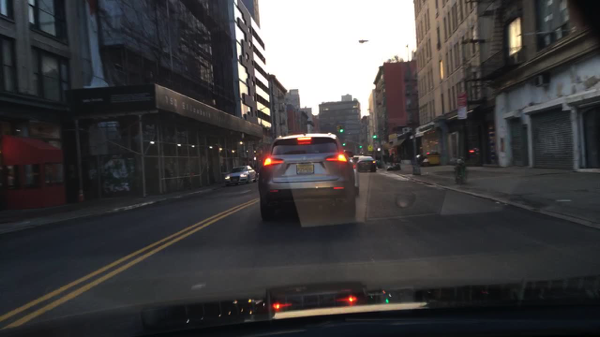car: (258, 132, 355, 223), (223, 166, 257, 187), (348, 157, 359, 194), (356, 155, 376, 172), (351, 155, 359, 164), (344, 150, 353, 157)
motor: (448, 156, 467, 187)
person: (389, 153, 394, 165)
traffic light: (337, 124, 343, 133), (371, 131, 376, 139), (341, 141, 345, 147)
